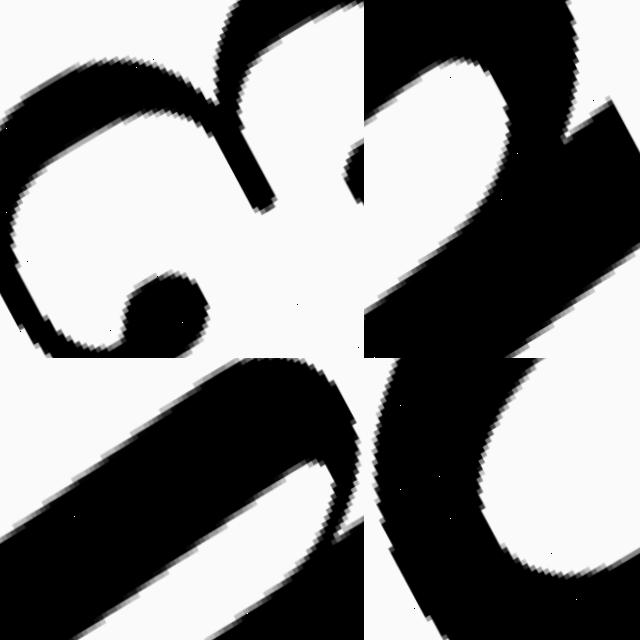3: (0, 0, 364, 358)
N: (0, 358, 364, 640), (364, 0, 640, 358)
O: (371, 358, 640, 640)
